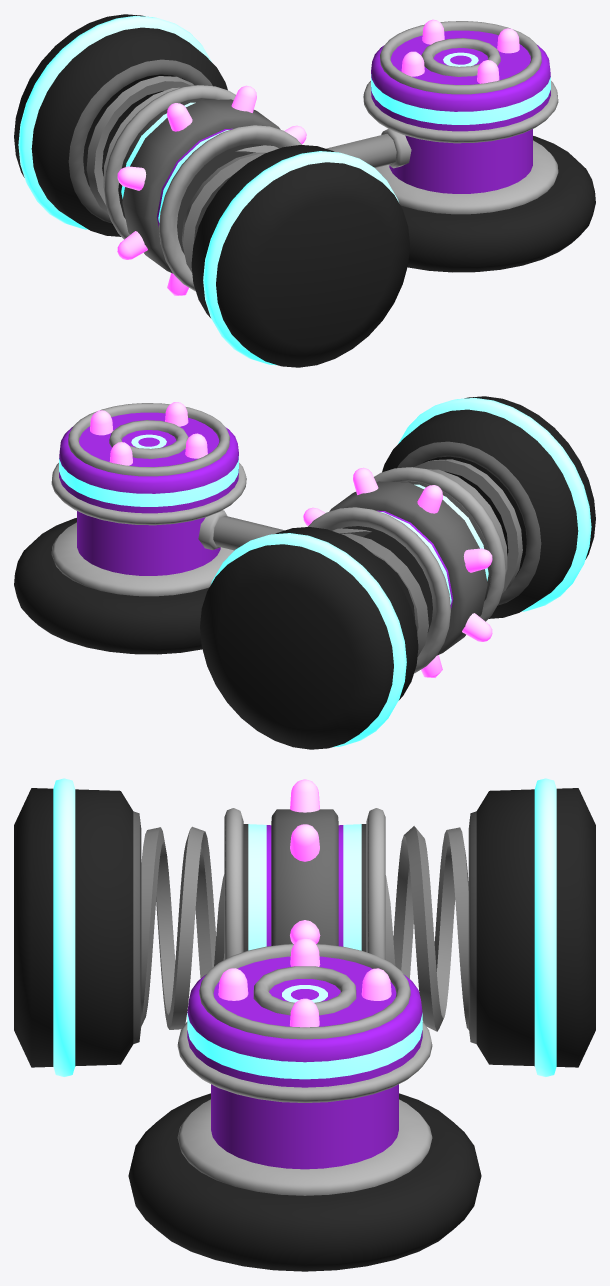
File: mesh_Rooftop_Trap_SpinningHammer.fbx
The picture shows the model from 3 angles, top to bottom: view 1: azimuth 30°, elevation 25°; view 2: azimuth 150°, elevation 25°; view 3: azimuth 270°, elevation 25°; orthographic projection. The views are drawn at different scales.
Parts seen in each view (by area): view 1: mesh_Rooftop_Trap_SpinningHammer; view 2: mesh_Rooftop_Trap_SpinningHammer; view 3: mesh_Rooftop_Trap_SpinningHammer.
Boxes of the visible parts, box(x1,y1,x2,y2) form: mesh_Rooftop_Trap_SpinningHammer: box(14, 14, 595, 367); mesh_Rooftop_Trap_SpinningHammer: box(14, 396, 595, 749); mesh_Rooftop_Trap_SpinningHammer: box(14, 778, 595, 1271).
Size of the model in its own units: 567 by 242 by 471.
